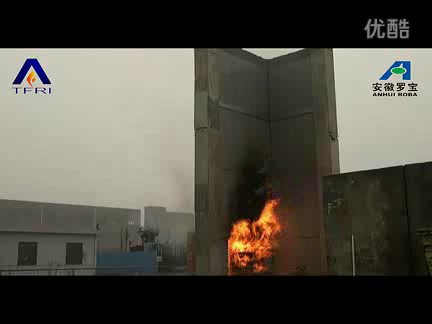fire: (224, 193, 282, 279)
